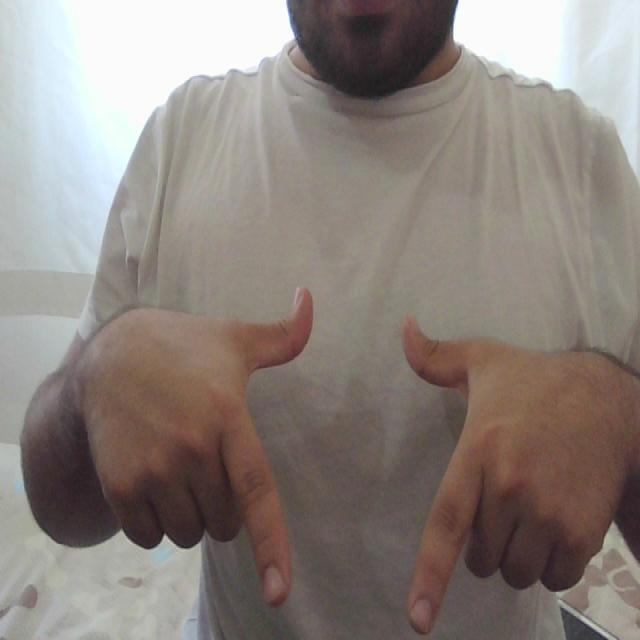Nerede: (211, 282, 505, 639)
